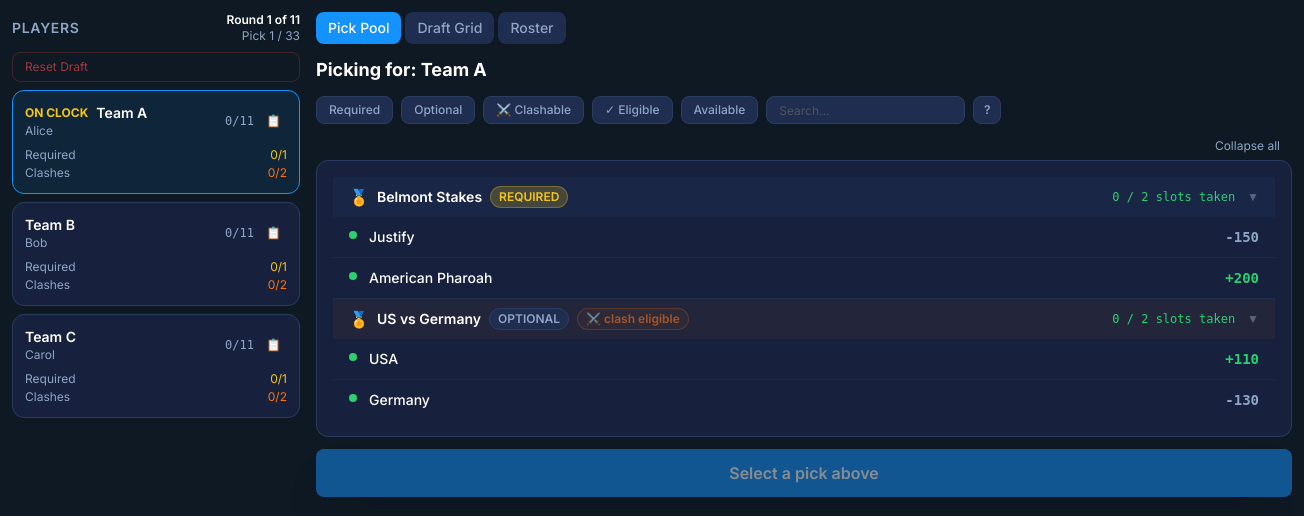
Test: DraftBoard › selects an option when clicked and shows validation
Click the text "Justify".
click(392, 237)  # box x1=369 y1=227 x2=415 y2=247
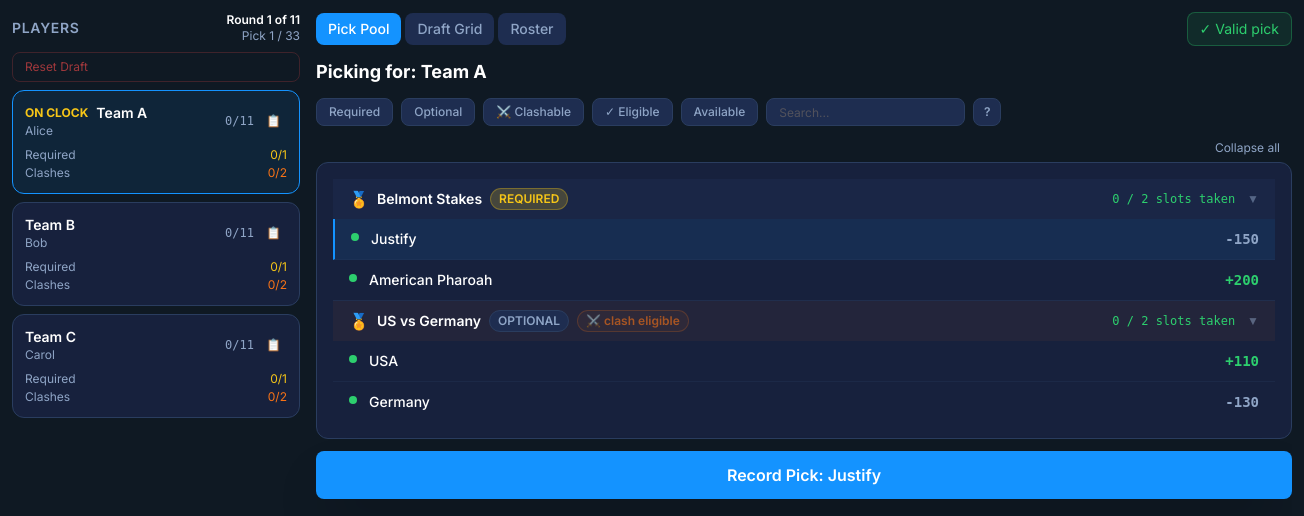
Result: the text "✓ Valid pick" is shown at x1=1187 y1=12 x2=1292 y2=46
